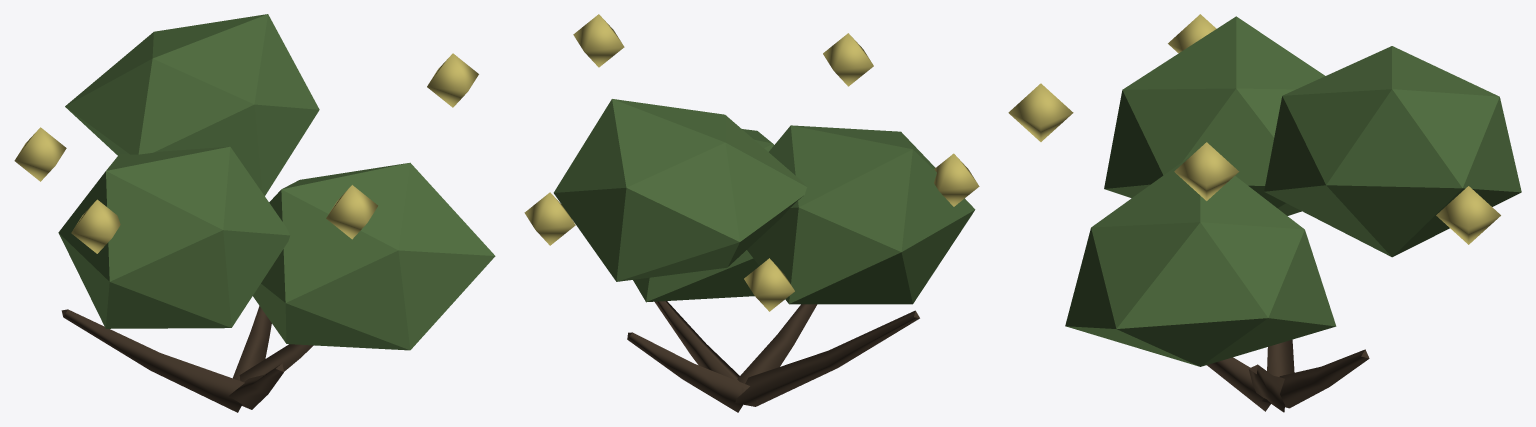
The model's file is land-forest-13.glb.
3 renders of one model, left to right at view 1: azimuth 30°, elevation 25°; view 2: azimuth 150°, elevation 25°; view 3: azimuth 270°, elevation 25°, orthographic. The views are drawn at different scales.
Parts seen in each view (by area): view 1: land.forest.13; view 2: land.forest.13; view 3: land.forest.13.
Boxes of the visible parts, x1,y1,x2,y2 form: land.forest.13: (14, 14, 495, 412); land.forest.13: (524, 14, 979, 412); land.forest.13: (1008, 14, 1521, 412).
Size of the model in its own units: 1.49 by 1.16 by 1.5.
